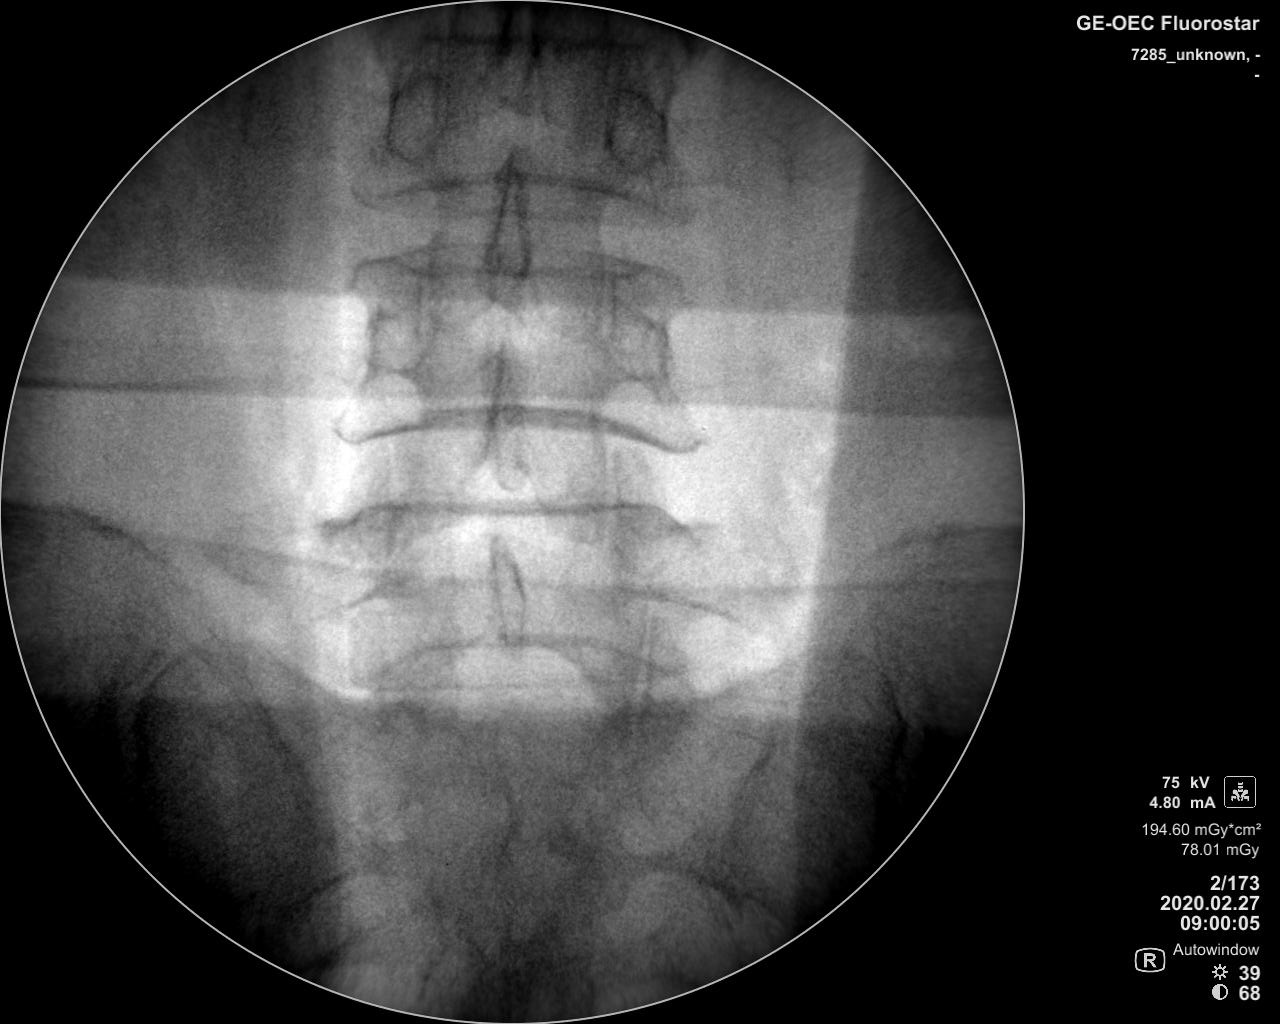eyes: (601, 311, 683, 393), (387, 67, 451, 165), (368, 284, 435, 377), (608, 83, 673, 176)
line: (358, 639, 681, 697), (371, 405, 691, 455), (349, 574, 689, 613), (395, 245, 649, 283), (325, 496, 669, 525), (397, 170, 647, 195), (432, 31, 653, 57)
nose: (475, 139, 530, 311), (489, 332, 536, 502), (479, 537, 537, 656), (494, 6, 538, 114)
